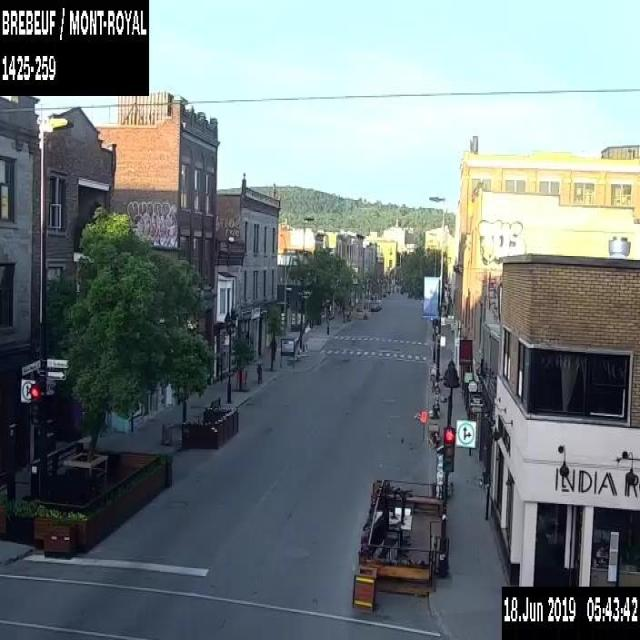construction: (419, 410, 428, 440)
pedestrian: (269, 335, 276, 361)
vehicle: (370, 297, 382, 311)
